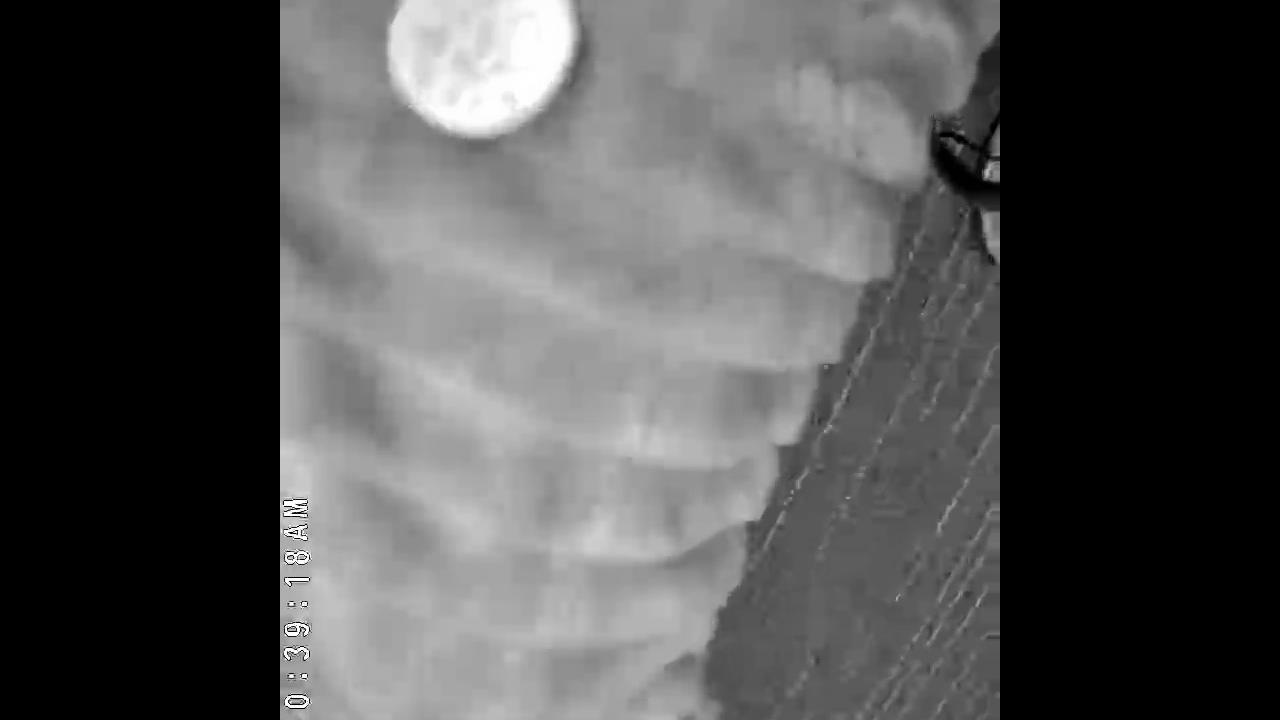coin: (380, 0, 590, 146)
